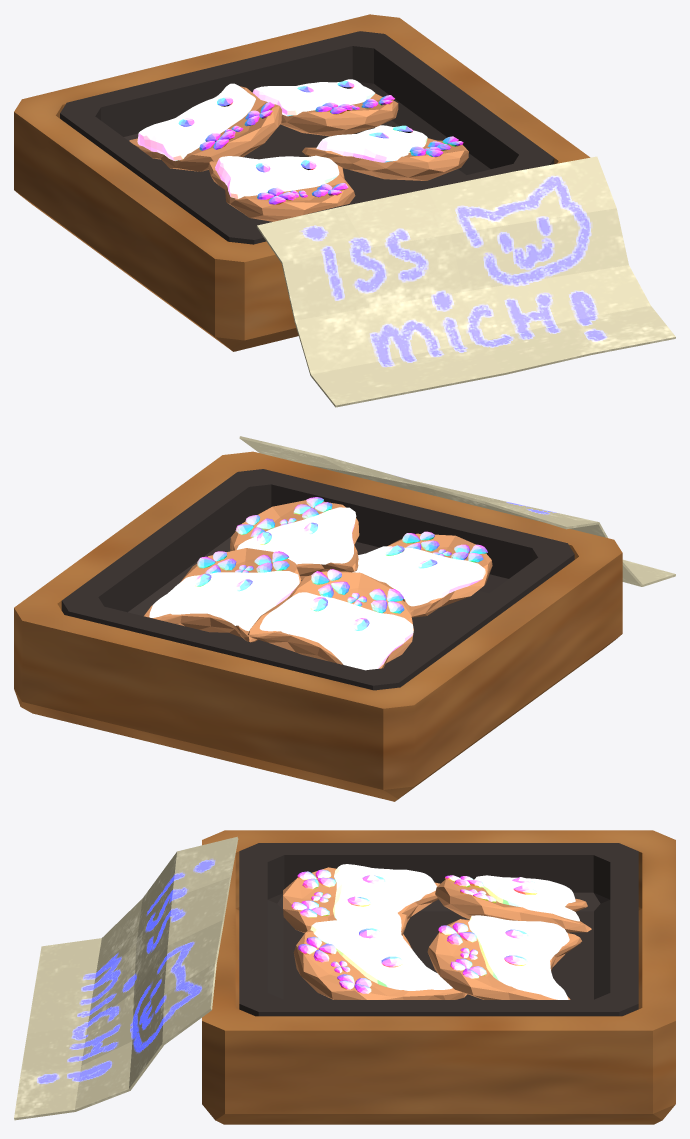
The model's file is Box_Cookies.fbx.
3 views of the same model, one above another, from view 1: azimuth 30°, elevation 25°; view 2: azimuth 150°, elevation 25°; view 3: azimuth 270°, elevation 25° (orthographic). The views are drawn at different scales.
Parts seen in each view (by area): view 1: BOX, Plane, Cookie.001, Cookie.029, Cookie.033, Cookie.050; view 2: BOX, Cookie.001, Cookie.050, Cookie.029, Cookie.033, Plane; view 3: BOX, Plane, Cookie.033, Cookie.050, Cookie.029, Cookie.001.
Boxes of the visible parts, x1,y1,x2,y2 form: BOX: (14,14,590,351); Plane: (257,156,675,407); Cookie.001: (129,83,281,171); Cookie.029: (208,155,355,221); Cookie.033: (302,125,468,180); Cookie.050: (252,79,398,136); BOX: (14,451,622,801); Cookie.001: (247,569,413,670); Cookie.050: (144,548,301,642); Cookie.029: (325,531,492,617); Cookie.033: (230,497,359,579); Plane: (239,436,675,586); BOX: (202,830,675,1124); Plane: (14,836,238,1120); Cookie.033: (293,909,467,999); Cookie.050: (427,915,581,999); Cookie.029: (283,864,440,948); Cookie.001: (435,875,591,932).
Size of the model in its own units: 23.66 by 7.23 by 33.04.
